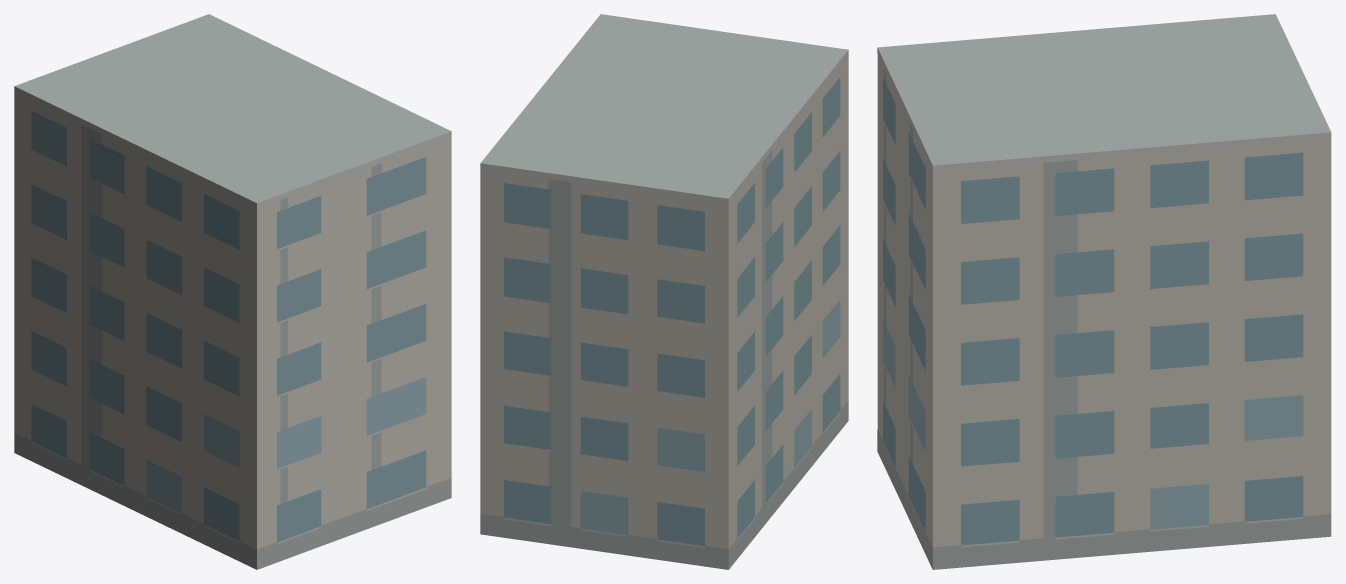
File: residential-32a80f87-a63b-416d-a4aa-8784856cbb17.glb
3 views of the same model, side by side, from view 1: azimuth 30°, elevation 25°; view 2: azimuth 150°, elevation 25°; view 3: azimuth 270°, elevation 25° (orthographic). The views are drawn at different scales.
Visible parts, largest first — view 1: residential-32a80f87-a63b-416d-a4aa-8784856cbb17.tmp; view 2: residential-32a80f87-a63b-416d-a4aa-8784856cbb17.tmp; view 3: residential-32a80f87-a63b-416d-a4aa-8784856cbb17.tmp.
Part boxes in pixels (x1,y1,x2,y2): residential-32a80f87-a63b-416d-a4aa-8784856cbb17.tmp: (14,14,451,569); residential-32a80f87-a63b-416d-a4aa-8784856cbb17.tmp: (480,14,848,569); residential-32a80f87-a63b-416d-a4aa-8784856cbb17.tmp: (877,14,1331,569).
Size of the model in its own units: 12.28 by 15.25 by 15.53.
